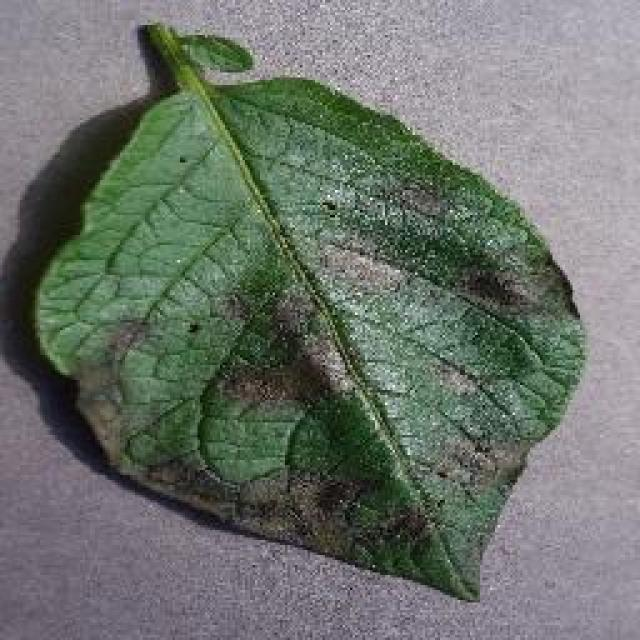Potato___Late_blight: (26, 20, 588, 614)
